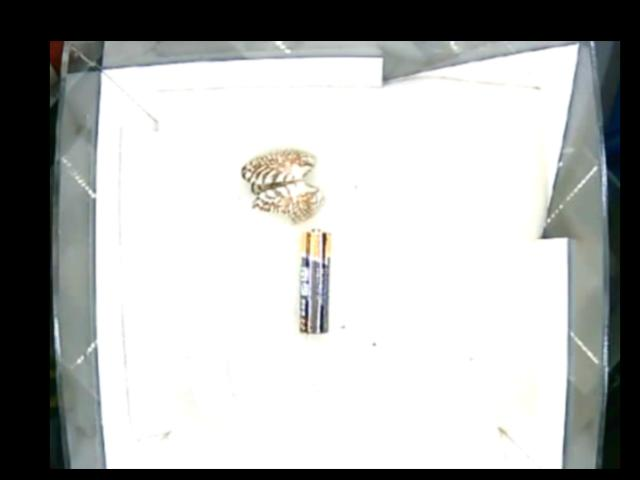Battery: (301, 230, 333, 332)
Bottle: (187, 339, 321, 418)
Shell: (237, 149, 324, 222)
